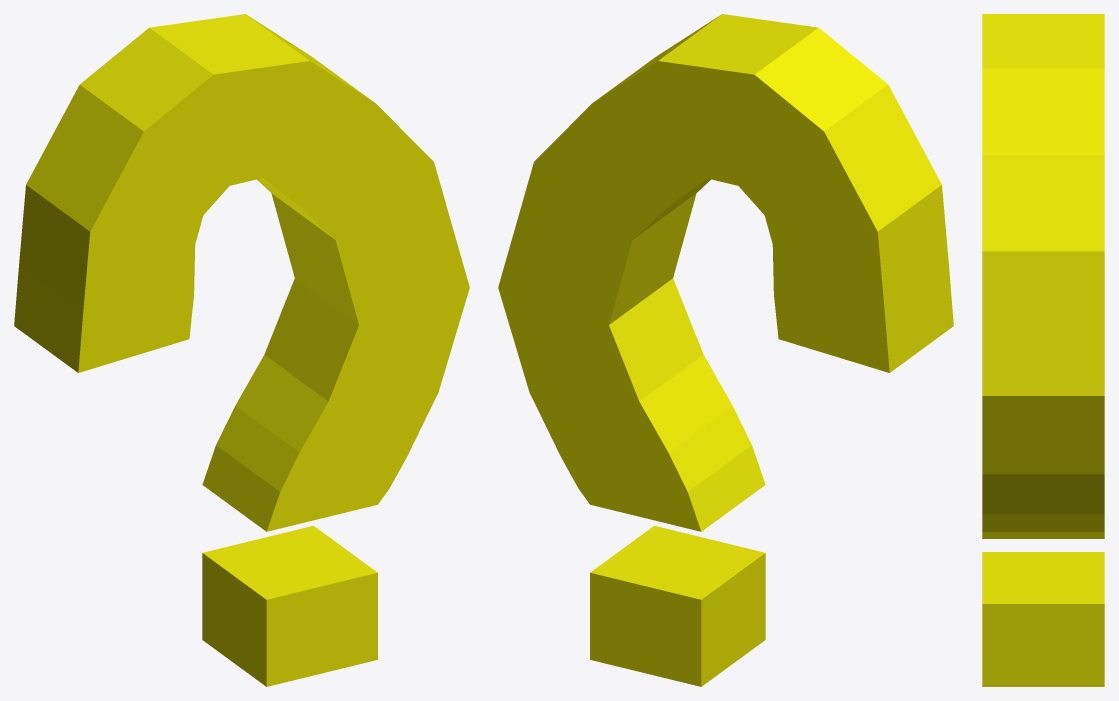
3 views of the same model, side by side, from view 1: azimuth 30°, elevation 25°; view 2: azimuth 150°, elevation 25°; view 3: azimuth 270°, elevation 25° (orthographic). The views are drawn at different scales.
Visible parts, largest first — view 1: RandomEncounter; view 2: RandomEncounter; view 3: RandomEncounter.
Boxes of the visible parts, x1,y1,x2,y2 form: RandomEncounter: (14, 14, 469, 686); RandomEncounter: (498, 14, 953, 686); RandomEncounter: (982, 14, 1104, 686).
Size of the model in its own units: 1.33 by 2.04 by 0.379.
Materials: 1 (1 with a texture image).
